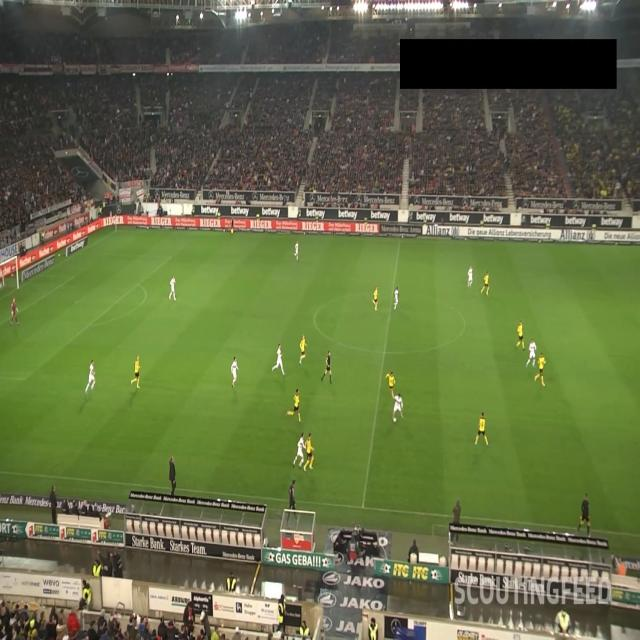ball: (393, 416, 397, 424)
